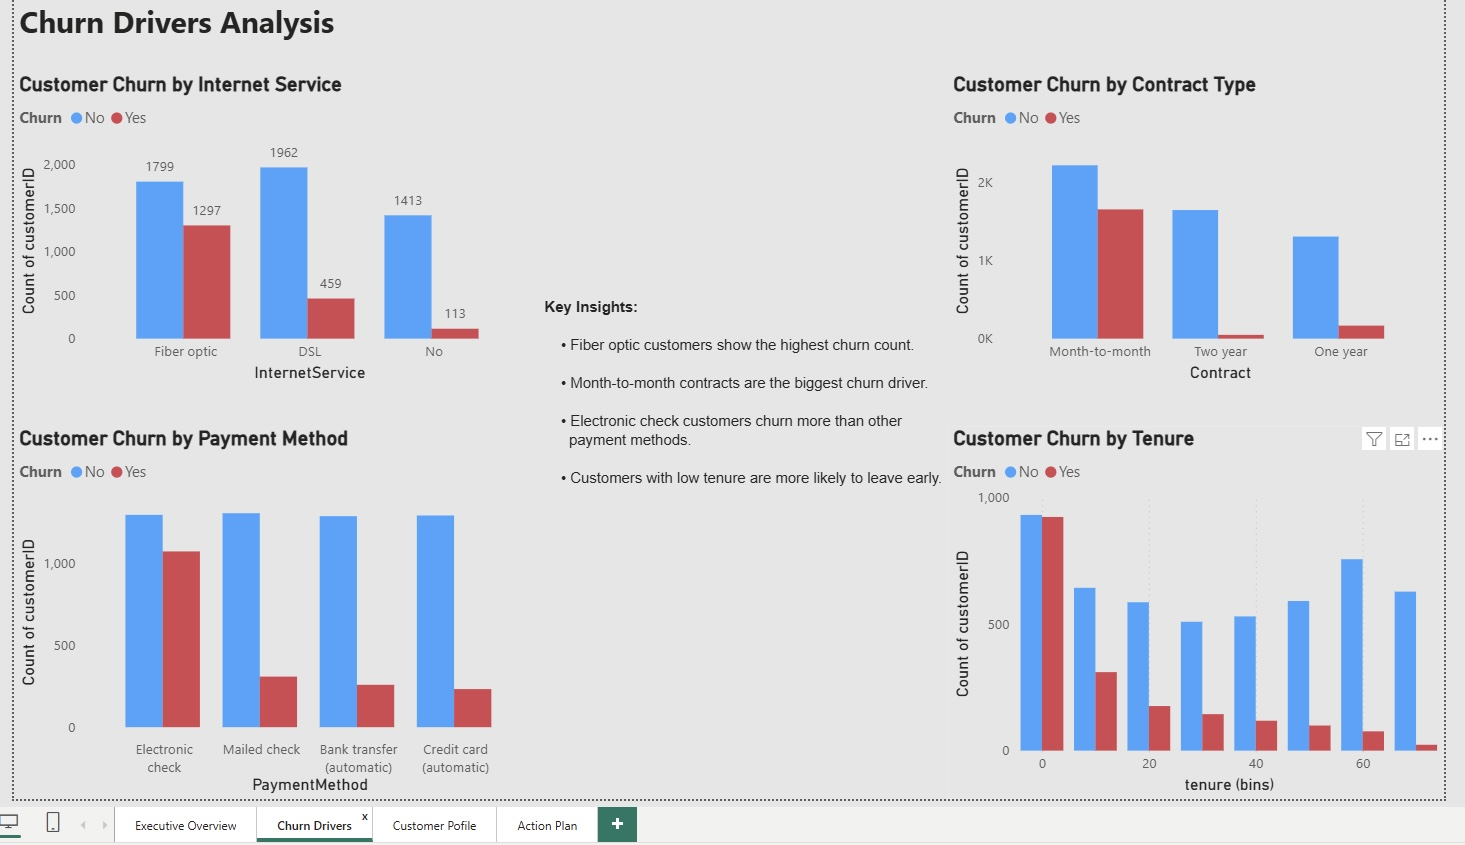

The dashboard page shown, as its layout file describes it:
{"tool":"powerbi","page":{"name":"Churn Drivers","canvas":[1280,720],"ordinal":1},"visuals":[{"type":"clusteredColumnChart","title":"Customer Churn by Internet Service","fields":{"Category":["WA_Fn-UseC_-Telco-Customer-Churn.InternetService"],"Y":["CountNonNull(WA_Fn-UseC_-Telco-Customer-Churn.customerID)"],"Series":["WA_Fn-UseC_-Telco-Customer-Churn.Churn"]},"box":[0,69,470.1,282.1],"z":0},{"type":"clusteredColumnChart","title":"Customer Churn by Contract Type","fields":{"Category":["WA_Fn-UseC_-Telco-Customer-Churn.Contract"],"Y":["CountNonNull(WA_Fn-UseC_-Telco-Customer-Churn.customerID)"],"Series":["WA_Fn-UseC_-Telco-Customer-Churn.Churn"]},"box":[836.4,69,443.3,282.1],"z":1000},{"type":"clusteredColumnChart","title":"Customer Churn by Payment Method","fields":{"Category":["WA_Fn-UseC_-Telco-Customer-Churn.PaymentMethod"],"Y":["CountNonNull(WA_Fn-UseC_-Telco-Customer-Churn.customerID)"],"Series":["WA_Fn-UseC_-Telco-Customer-Churn.Churn"]},"box":[0,386,470.1,334],"z":2000},{"type":"clusteredColumnChart","title":"Customer Churn by Tenure","fields":{"Category":["WA_Fn-UseC_-Telco-Customer-Churn.tenure (bins)"],"Y":["CountNonNull(WA_Fn-UseC_-Telco-Customer-Churn.customerID)"],"Series":["WA_Fn-UseC_-Telco-Customer-Churn.Churn"]},"box":[836.4,386,443.3,334],"z":3000},{"type":"textbox","box":[0,0,331.3,52.8],"z":4000},{"type":"textbox","box":[470.1,265.1,366.3,189.9],"z":5000}]}

Visuals, with their boxes on the page's 1280x720 design canvas (x1, y1, x2, y2). These are canvas units, not pixel positions in the 1465x845 screenshot, which may show the page scaled, cropped or inside an application window:
"Customer Churn by Internet Service" clusteredColumnChart: region(0, 69, 470, 351)
"Customer Churn by Contract Type" clusteredColumnChart: region(836, 69, 1280, 351)
"Customer Churn by Payment Method" clusteredColumnChart: region(0, 386, 470, 720)
"Customer Churn by Tenure" clusteredColumnChart: region(836, 386, 1280, 720)
textbox: region(0, 0, 331, 53)
textbox: region(470, 265, 836, 455)
